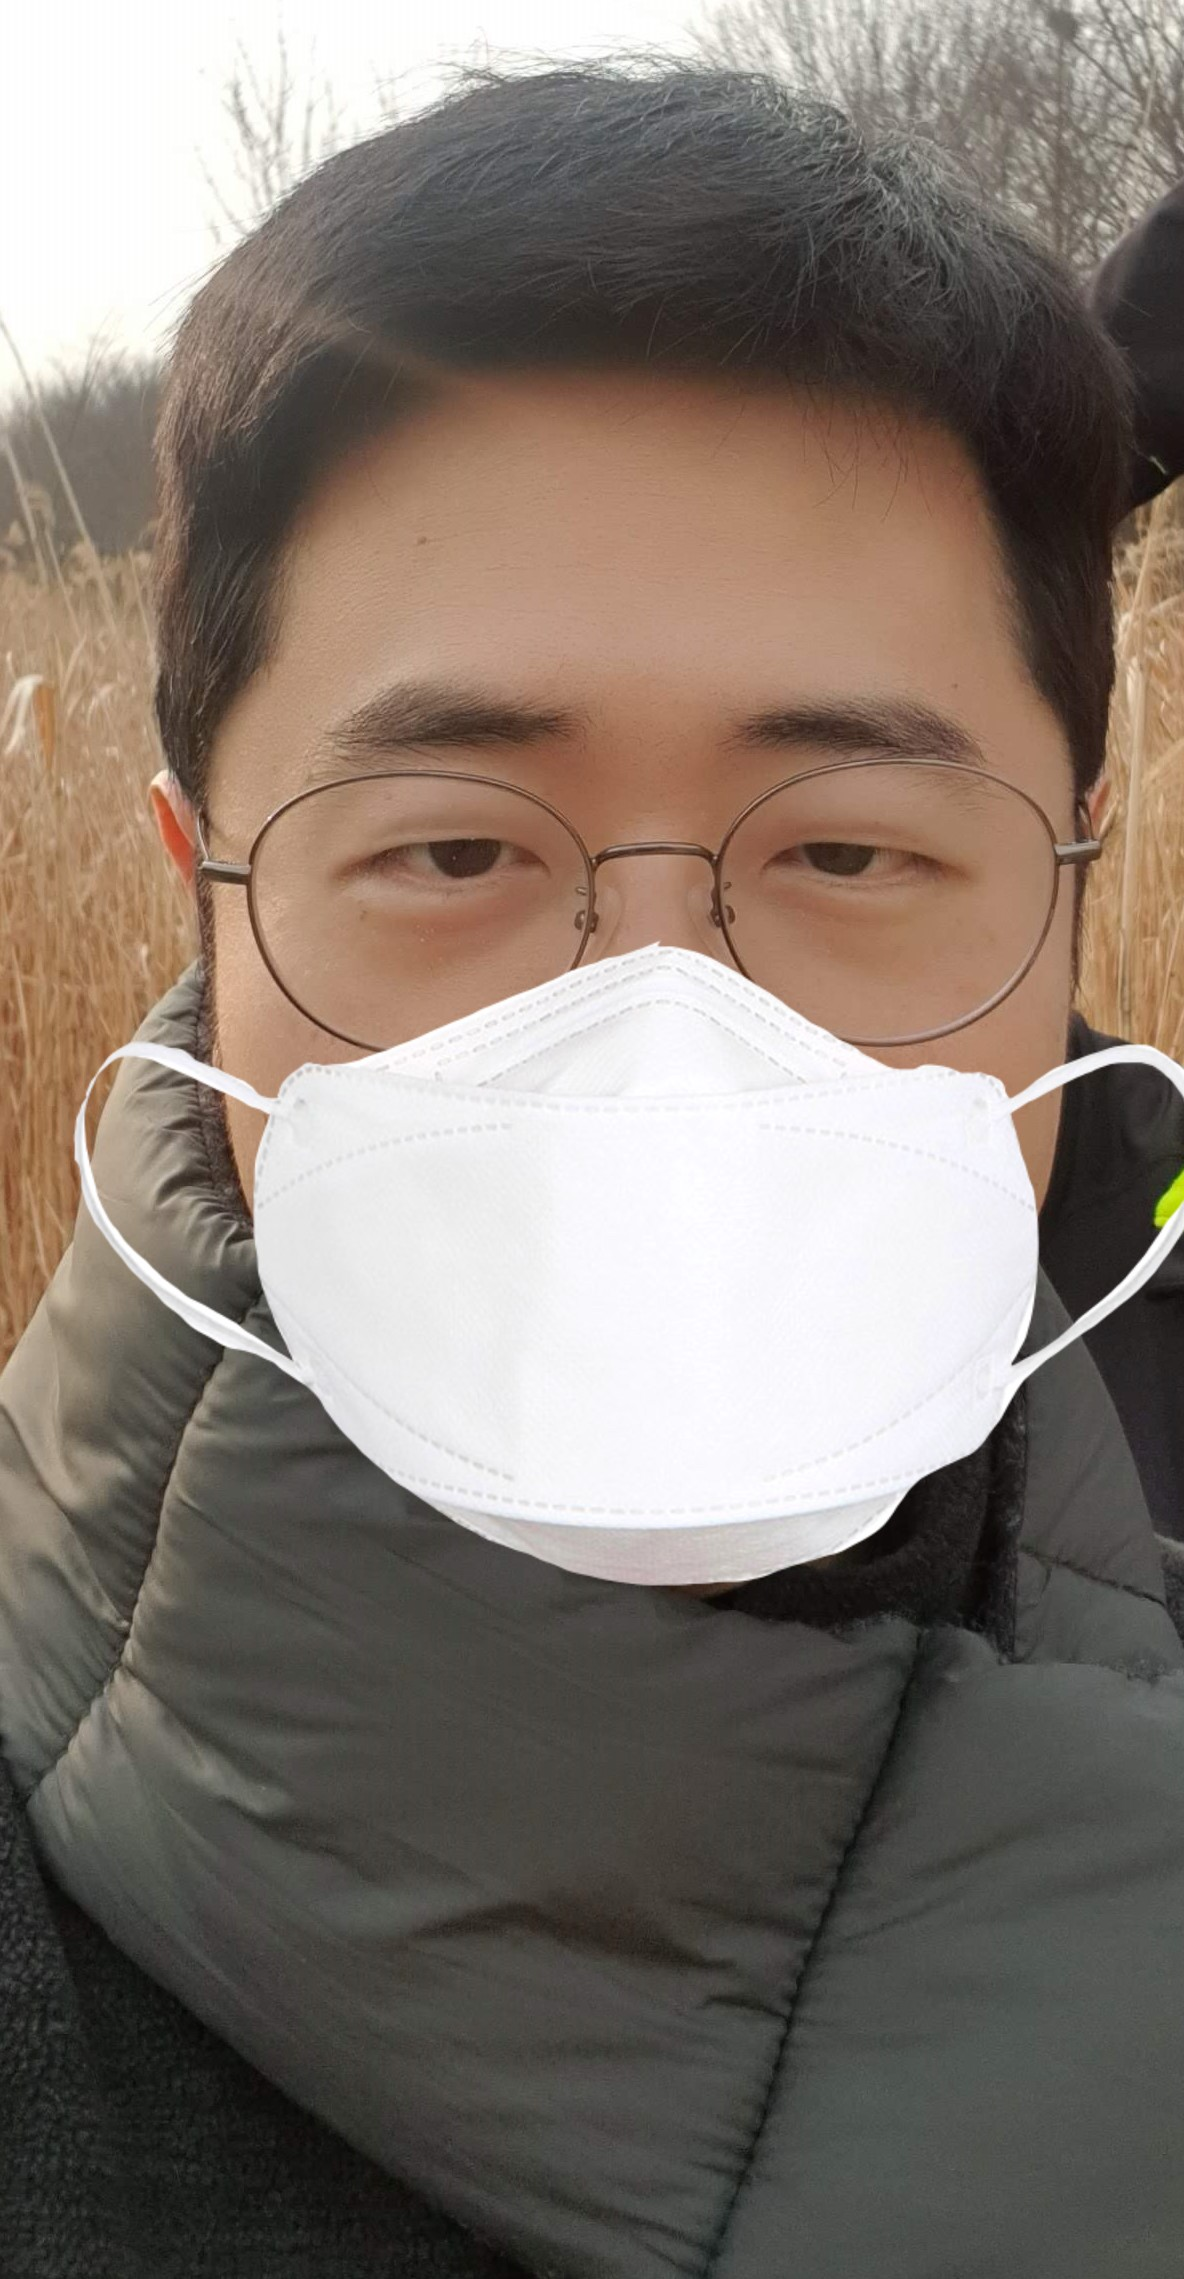mask: (217, 365, 1083, 1545)
